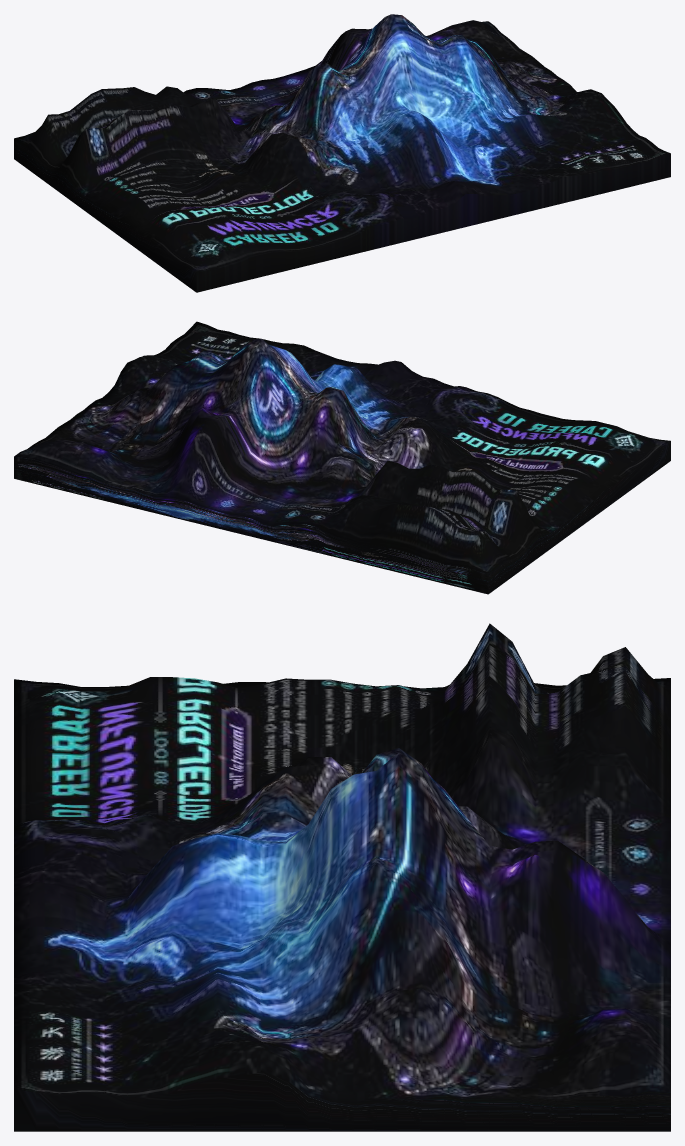
The model's file is CAREER_10_Tool_08_Qi_Projector.glb.
The picture shows the model from 3 angles, top to bottom: view 1: azimuth 30°, elevation 25°; view 2: azimuth 150°, elevation 25°; view 3: azimuth 270°, elevation 25°; orthographic projection. The views are drawn at different scales.
Parts seen in each view (by area): view 1: CAREER_10_Tool_08_Qi_Projector; view 2: CAREER_10_Tool_08_Qi_Projector; view 3: CAREER_10_Tool_08_Qi_Projector.
Part boxes in pixels (<box>): CAREER_10_Tool_08_Qi_Projector: <box>14,14,670,292</box>; CAREER_10_Tool_08_Qi_Projector: <box>14,321,670,594</box>; CAREER_10_Tool_08_Qi_Projector: <box>14,623,670,1131</box>.
Size of the model in its own units: 2 by 0.51 by 1.33.
Materials: 1 (1 with a texture image).
